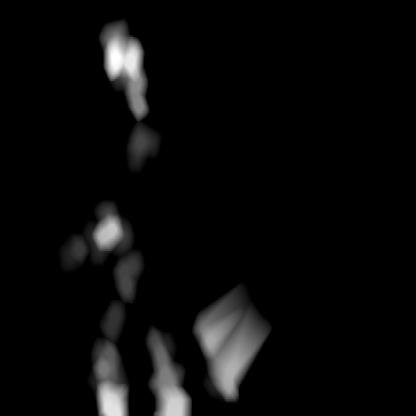fingers: (101, 20, 147, 115)
palm: (60, 244, 239, 413)
